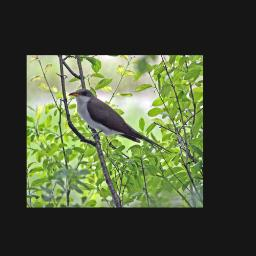Cuckoo: (67, 88, 171, 156)
